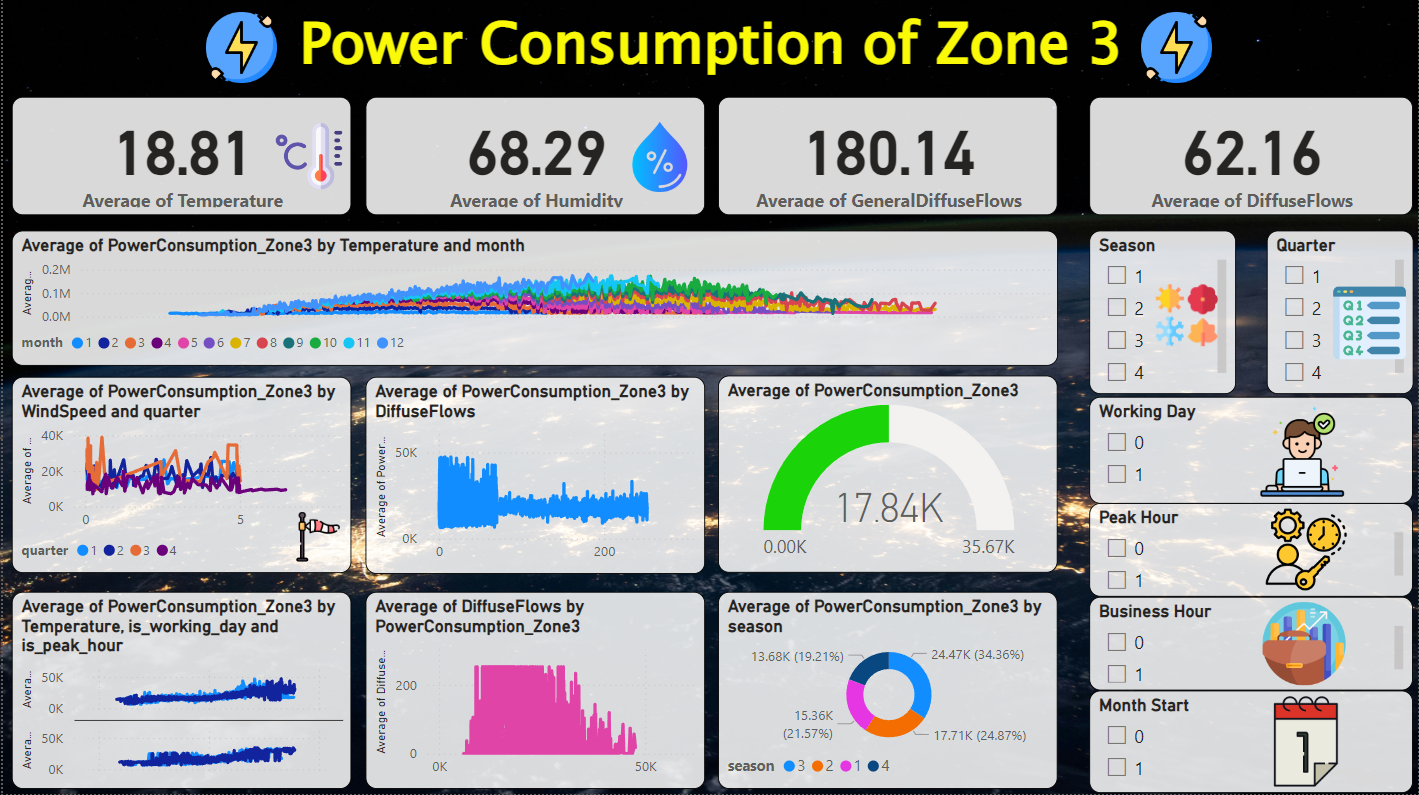

This screenshot's page, from the dashboard's own definition file:
{"tool":"powerbi","page":{"name":"Page 1","canvas":[1280,720],"ordinal":0},"visuals":[{"type":"textbox","title":"Power Consumption of Zone 3","box":[241.5,0,795.9,81],"z":0},{"type":"card","fields":{"Values":["Avg(clean_feature_popwer.GeneralDiffuseFlows)"]},"box":[646.7,89.3,307.5,107.4],"z":1000},{"type":"gauge","fields":{"Y":["Avg(clean_feature_popwer.PowerConsumption_Zone3)"]},"box":[646.7,341.5,307.5,178.6],"z":2000},{"type":"donutChart","fields":{"Y":["Avg(clean_feature_popwer.PowerConsumption_Zone3)"],"Category":["clean_feature_popwer.season"]},"box":[646.7,537.1,307.5,178.6],"z":3000},{"type":"lineChart","fields":{"Category":["clean_feature_popwer.Temperature"],"Y":["Avg(clean_feature_popwer.PowerConsumption_Zone3)"],"Series":["clean_feature_popwer.is_working_day"],"Rows":["clean_feature_popwer.is_peak_hour"]},"box":[7.9,537.1,307.5,178.6],"z":4000},{"type":"lineChart","fields":{"Category":["clean_feature_popwer.DiffuseFlows"],"Y":["Avg(clean_feature_popwer.PowerConsumption_Zone3)"]},"box":[327.9,342.6,307.5,178.6],"z":5000},{"type":"stackedAreaChart","fields":{"Category":["clean_feature_popwer.PowerConsumption_Zone3"],"Y":["Avg(clean_feature_popwer.DiffuseFlows)"]},"box":[327.9,537.1,307.5,178.6],"z":6000},{"type":"card","fields":{"Values":["Avg(clean_feature_popwer.Temperature)"]},"box":[7.9,89.3,307.5,107.4],"z":7000},{"type":"card","fields":{"Values":["Avg(clean_feature_popwer.Humidity)"]},"box":[327.9,89.3,307.5,107.4],"z":8000},{"type":"card","fields":{"Values":["Avg(clean_feature_popwer.DiffuseFlows)"]},"box":[982.5,89.3,292.8,107.4],"z":9000},{"type":"lineChart","fields":{"Y":["Avg(clean_feature_popwer.PowerConsumption_Zone3)"],"Category":["clean_feature_popwer.WindSpeed"],"Series":["clean_feature_popwer.quarter"]},"box":[7.9,342.6,307.5,177.5],"z":10000},{"type":"stackedAreaChart","fields":{"Y":["Avg(clean_feature_popwer.PowerConsumption_Zone3)"],"Series":["clean_feature_popwer.month"],"Category":["clean_feature_popwer.Temperature"]},"box":[7.9,210.3,946.4,122.1],"z":11000},{"type":"slicer","title":"Season","fields":{"Values":["clean_feature_popwer.season"]},"box":[982.6,210.5,132.6,147.7],"z":12000},{"type":"slicer","title":"Quarter","fields":{"Values":["clean_feature_popwer.quarter"]},"box":[1143,210.5,132.6,147.7],"z":13000},{"type":"slicer","title":"Working Day","fields":{"Values":["clean_feature_popwer.is_working_day"]},"box":[982.6,360.5,293,96.5],"z":14000},{"type":"slicer","title":"Peak Hour","fields":{"Values":["clean_feature_popwer.is_peak_hour"]},"box":[982.6,457,293,84.9],"z":15000},{"type":"slicer","title":"Business Hour","fields":{"Values":["clean_feature_popwer.is_business_hours"]},"box":[982.6,541.9,293,84.9],"z":16000},{"type":"slicer","title":"Month Start","fields":{"Values":["clean_feature_popwer.is_month_start"]},"box":[982.6,626.7,293,93],"z":17000},{"type":"image","box":[552.9,101.8,82.5,83.7],"z":18000},{"type":"image","box":[242,107.4,70.1,71.2],"z":19000},{"type":"image","box":[174.1,0,83.7,89.3],"z":20000},{"type":"image","box":[1019.9,0,83.7,89.3],"z":21000},{"type":"image","box":[1129.5,360.7,91.6,99.5],"z":22000},{"type":"image","box":[1136.3,455.7,84.8,85.9],"z":23000},{"type":"image","box":[1132.9,541.6,88.2,84.8],"z":24000},{"type":"image","box":[1132.9,625.3,91.6,93.8],"z":25000},{"type":"image","box":[257.8,460.2,54.3,54.3],"z":26000},{"type":"image","box":[1037.9,231.8,65.6,109.7],"z":27000},{"type":"image","box":[1197.4,229.5,78,128.9],"z":28000}]}

Visuals, with their boxes in screenshot pixels (x1, y1, x2, y2), scaled from the page's 1280x720 canvas onto the 1419x795 screenshot:
"Power Consumption of Zone 3" textbox: 268, 0, 1150, 89
card - Avg(clean_feature_popwer.GeneralDiffuseFlows): 717, 99, 1058, 217
gauge - Avg(clean_feature_popwer.PowerConsumption_Zone3): 717, 377, 1058, 574
donutChart - Avg(clean_feature_popwer.PowerConsumption_Zone3) x clean_feature_popwer.season: 717, 593, 1058, 790
lineChart - clean_feature_popwer.Temperature x Avg(clean_feature_popwer.PowerConsumption_Zone3): 9, 593, 350, 790
lineChart - clean_feature_popwer.DiffuseFlows x Avg(clean_feature_popwer.PowerConsumption_Zone3): 364, 378, 704, 575
stackedAreaChart - clean_feature_popwer.PowerConsumption_Zone3 x Avg(clean_feature_popwer.DiffuseFlows): 364, 593, 704, 790
card - Avg(clean_feature_popwer.Temperature): 9, 99, 350, 217
card - Avg(clean_feature_popwer.Humidity): 364, 99, 704, 217
card - Avg(clean_feature_popwer.DiffuseFlows): 1089, 99, 1414, 217
lineChart - Avg(clean_feature_popwer.PowerConsumption_Zone3) x clean_feature_popwer.WindSpeed: 9, 378, 350, 574
stackedAreaChart - Avg(clean_feature_popwer.PowerConsumption_Zone3) x clean_feature_popwer.month: 9, 232, 1058, 367
"Season" slicer: 1089, 232, 1236, 396
"Quarter" slicer: 1267, 232, 1414, 396
"Working Day" slicer: 1089, 398, 1414, 505
"Peak Hour" slicer: 1089, 505, 1414, 598
"Business Hour" slicer: 1089, 598, 1414, 692
"Month Start" slicer: 1089, 692, 1414, 794
image: 613, 112, 704, 205
image: 268, 119, 346, 197
image: 193, 0, 286, 99
image: 1131, 0, 1223, 99
image: 1252, 398, 1354, 508
image: 1260, 503, 1354, 598
image: 1256, 598, 1354, 692
image: 1256, 690, 1357, 794
image: 286, 508, 346, 568
image: 1151, 256, 1223, 377
image: 1327, 253, 1414, 396
